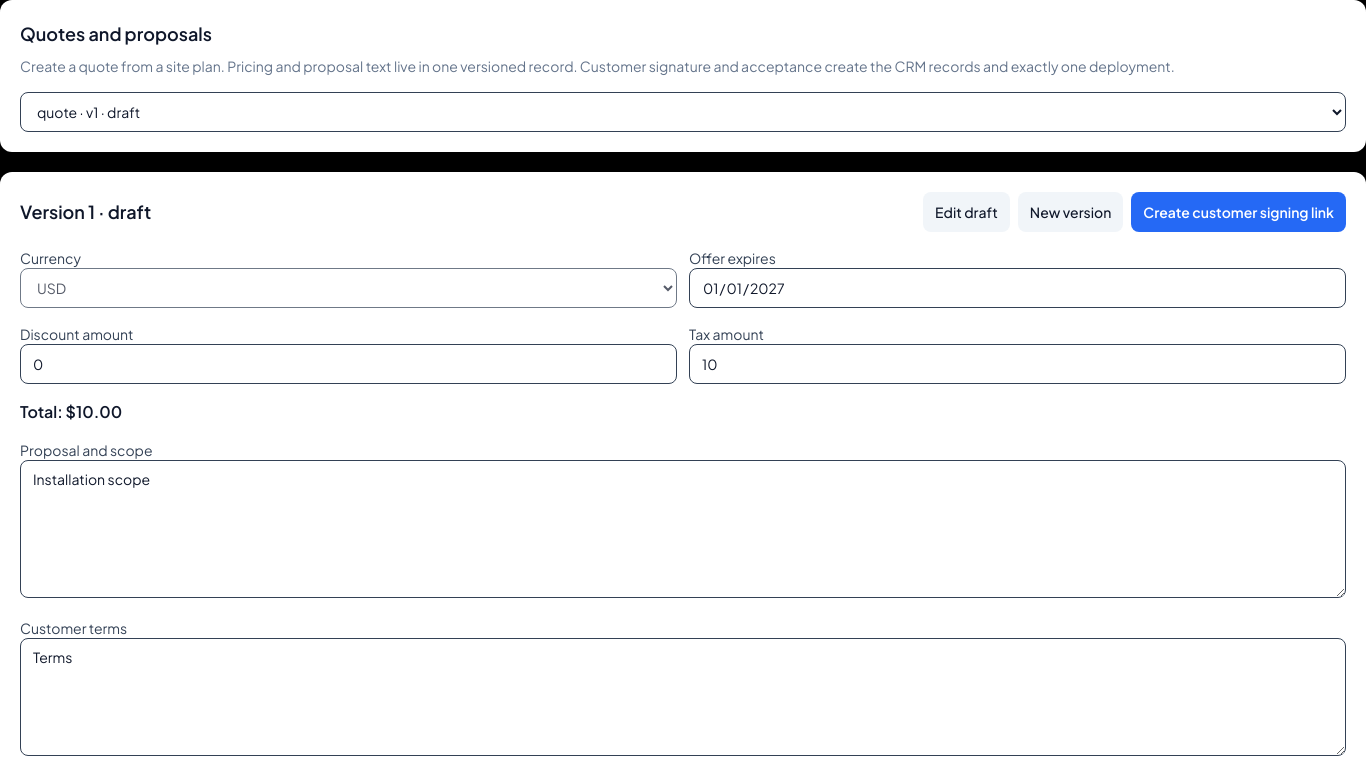
quote and deployment controls › reports empty quotes instead of rendering a dead disabled signing button
Step 1. Click the button "Create customer signing link" → [1239, 212], box 1131,192 -> 1346,232
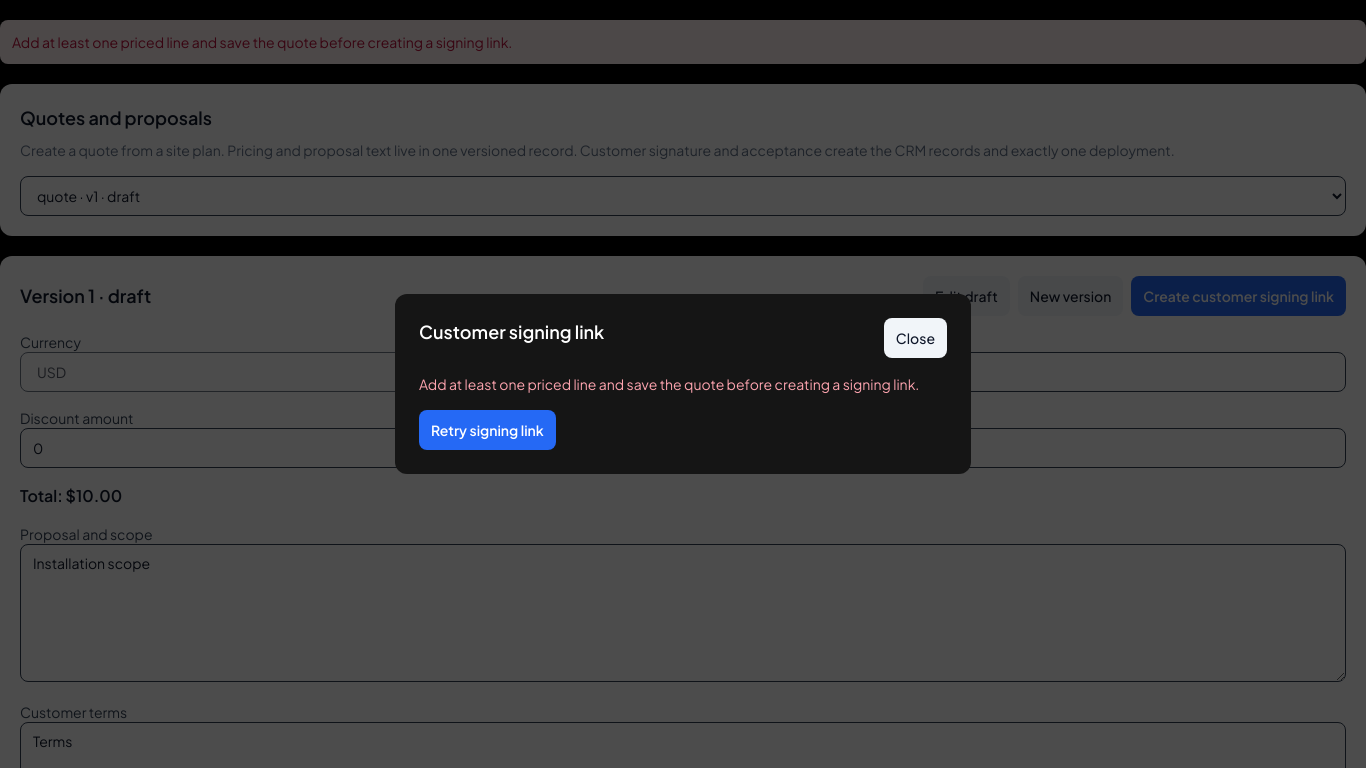
Expected: the 2nd message shows "at least one priced line", 419,375 -> 919,393
